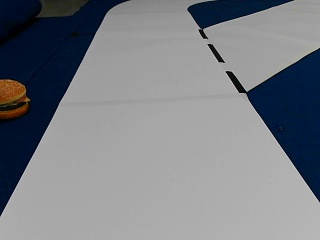burger: (0, 77, 29, 118)
